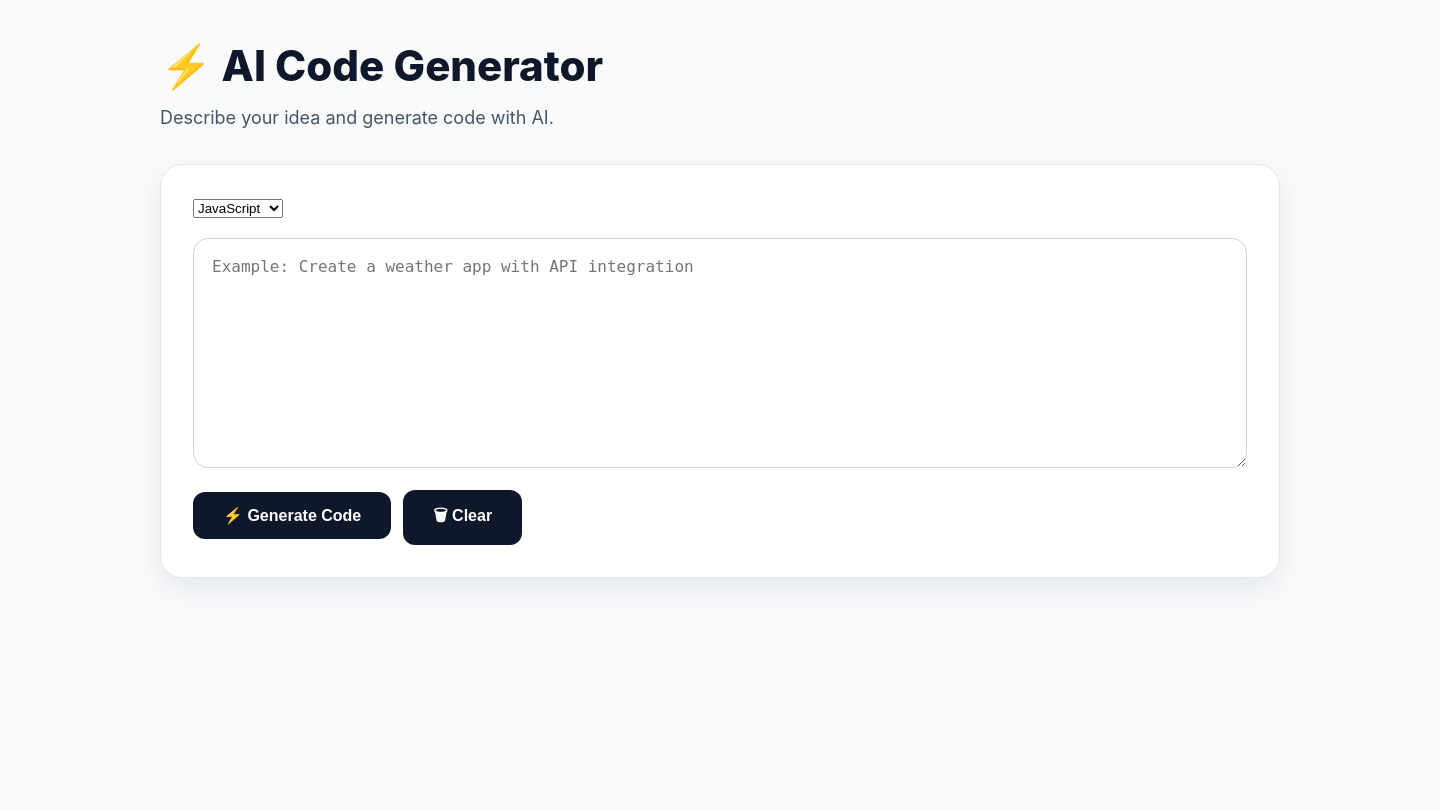
Test case: CodeGenerator Component › should clear the idea and generated code
The width and height of the screenshot is (1440, 810).
Type "Create a test app" into the text box with placeholder "Example: Create a weather app with API integration" at (720, 353), box [193,238,1247,468]
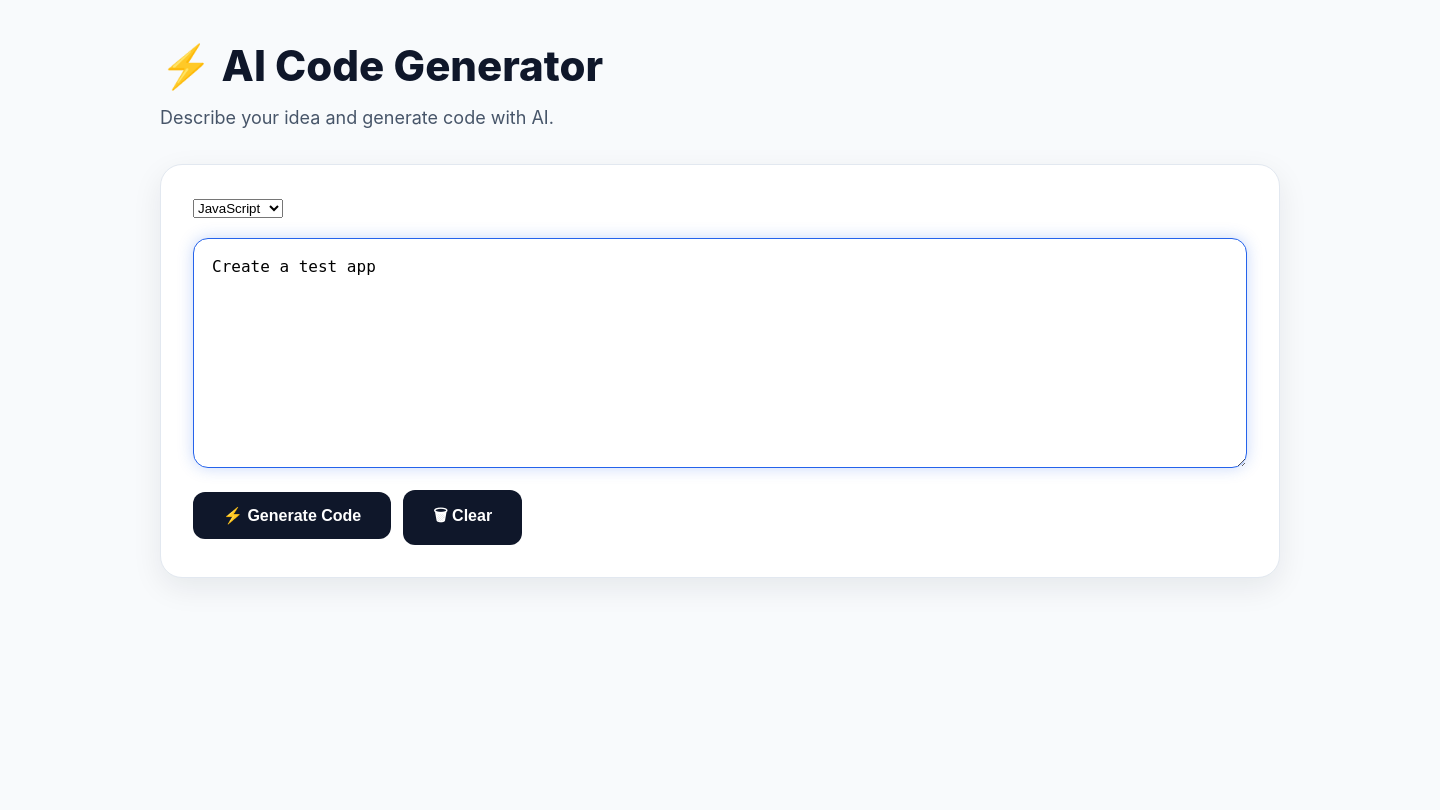
Click the button "⚡ Generate Code" at (292, 515), box [193,492,391,539]
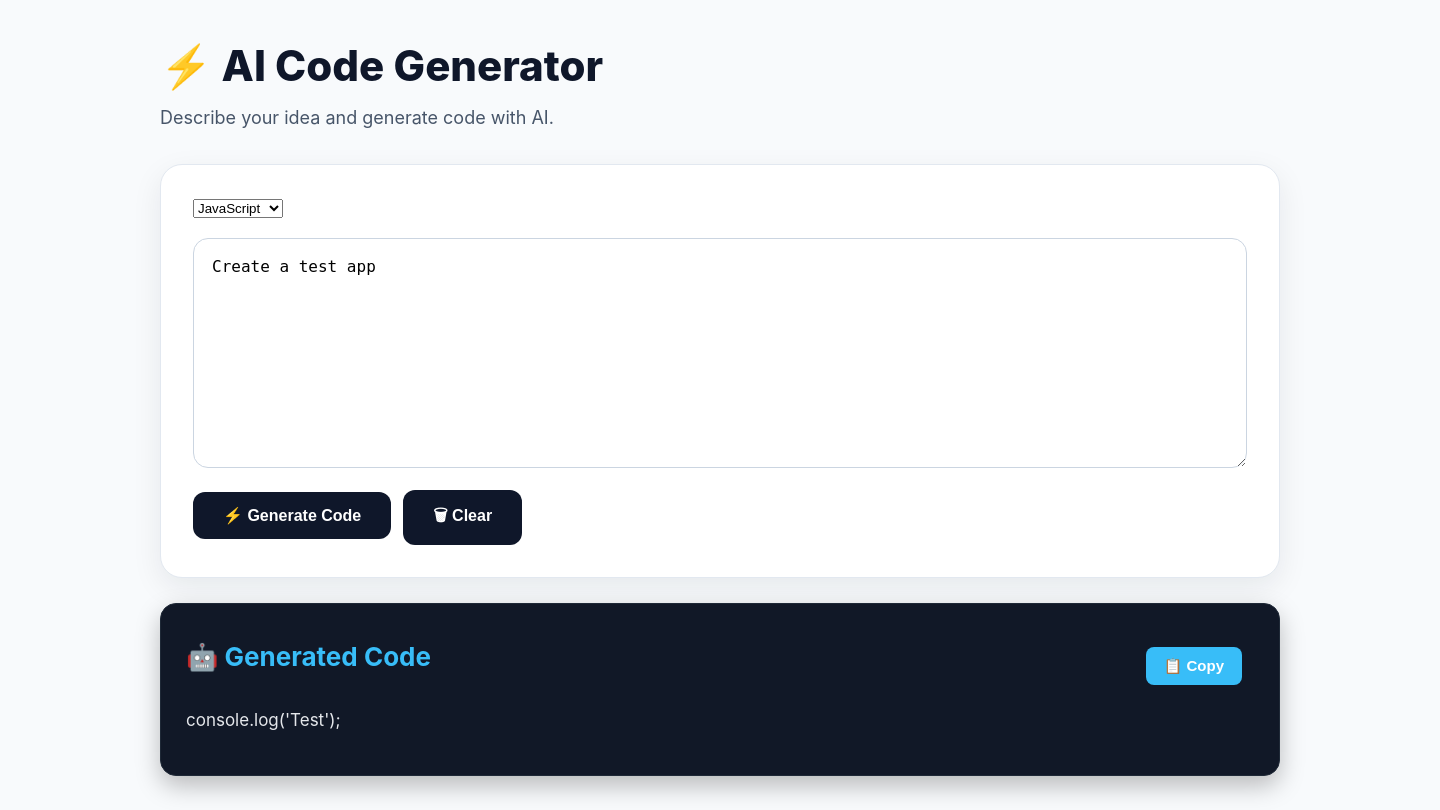
Now the text "console.log('Test');" is shown, box [186,710,341,730]
Click the button "🗑 Clear" at (463, 517), box [403,490,522,545]
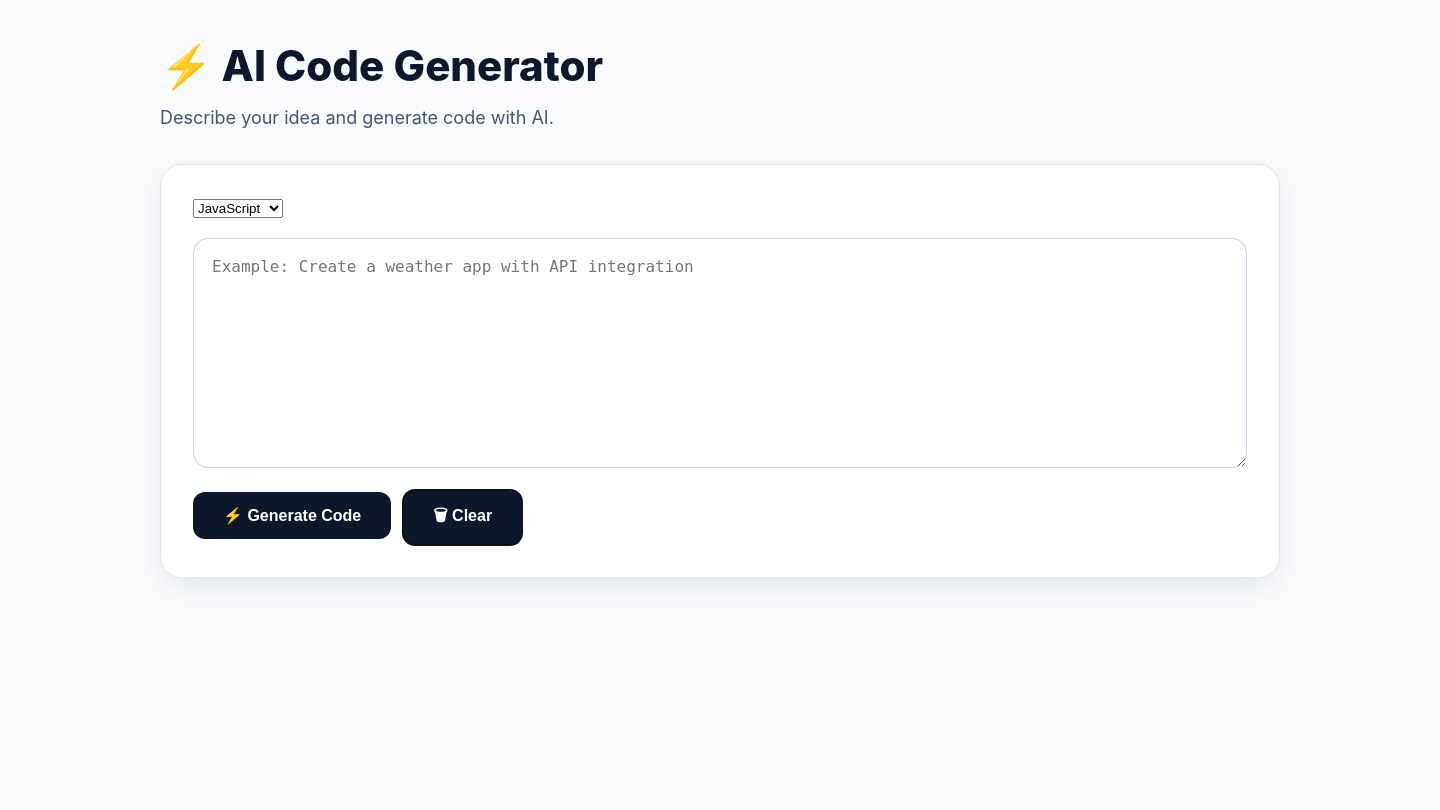
Now the text box with placeholder "Example: Create a weather app with API integration" is empty, box [193,238,1247,468]
Now the text "console.log('Test');" is gone
